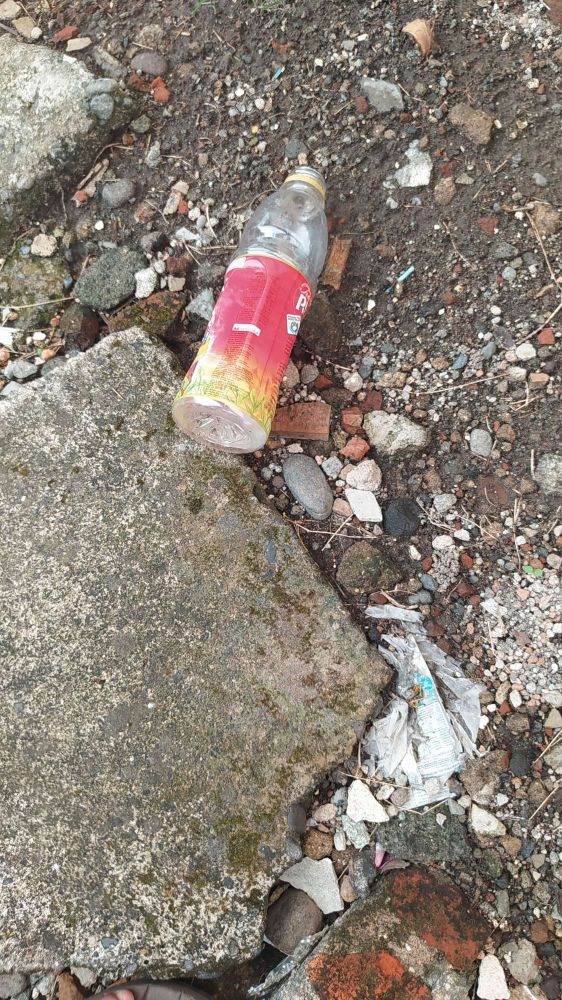botol: (163, 128, 334, 455)
